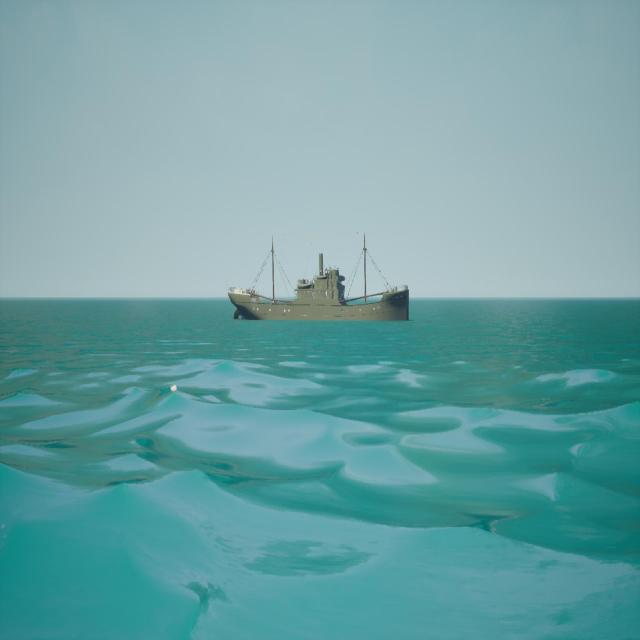fishing ship: (228, 234, 412, 324)
